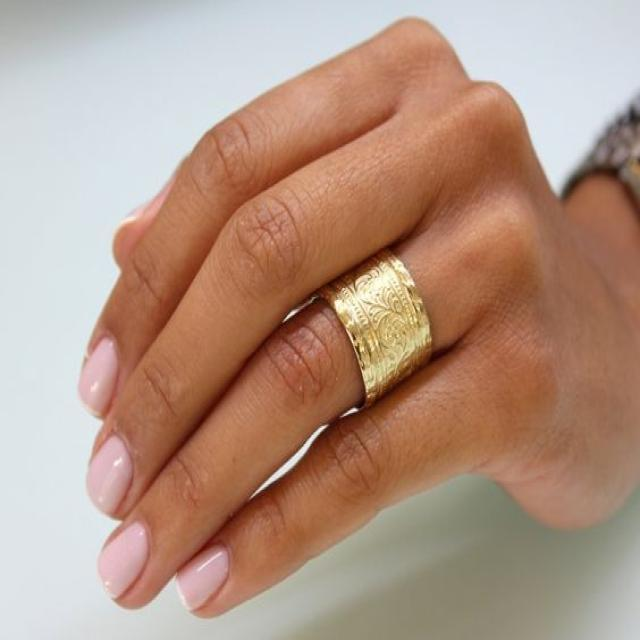Fingernail: (98, 521, 148, 600), (87, 433, 133, 515), (176, 543, 228, 615), (77, 337, 120, 417)
